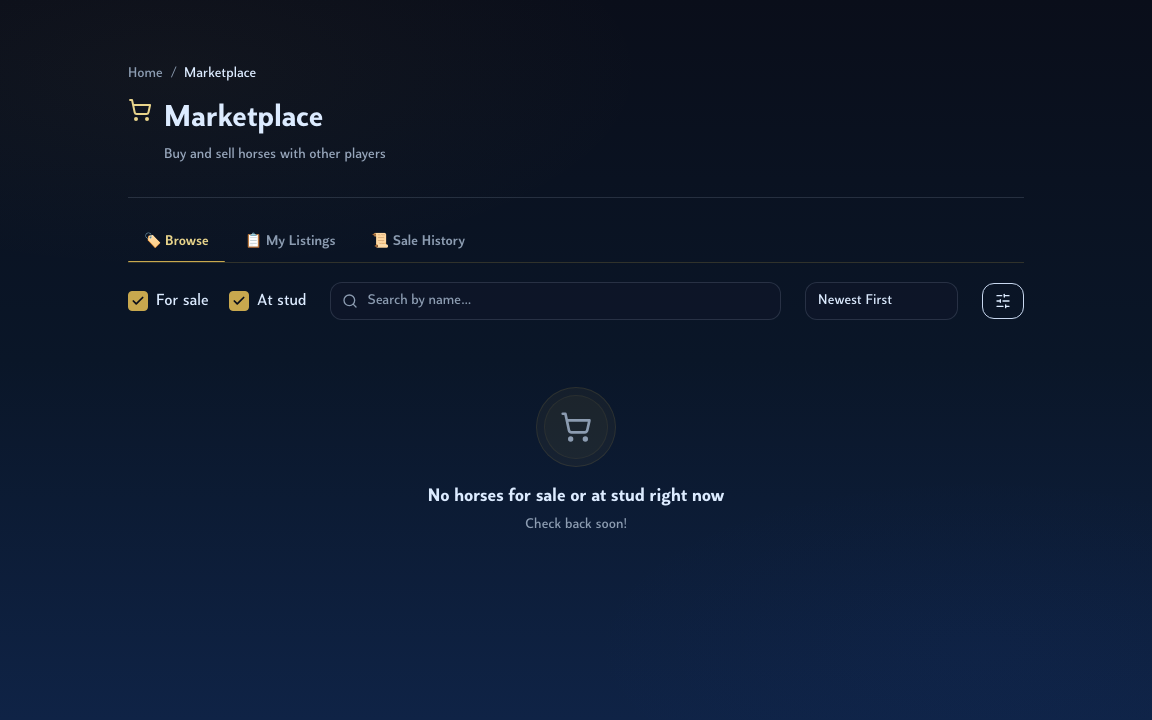
HorseMarketplacePage — sibling Delist buttons (Equoria-ib96u) › locks only the listing being delisted; the other row stays usable
Later steps or results of the test are not shown.
Click the tab with test id "tab-my-listings" at (290, 242), box [229, 222, 352, 262]
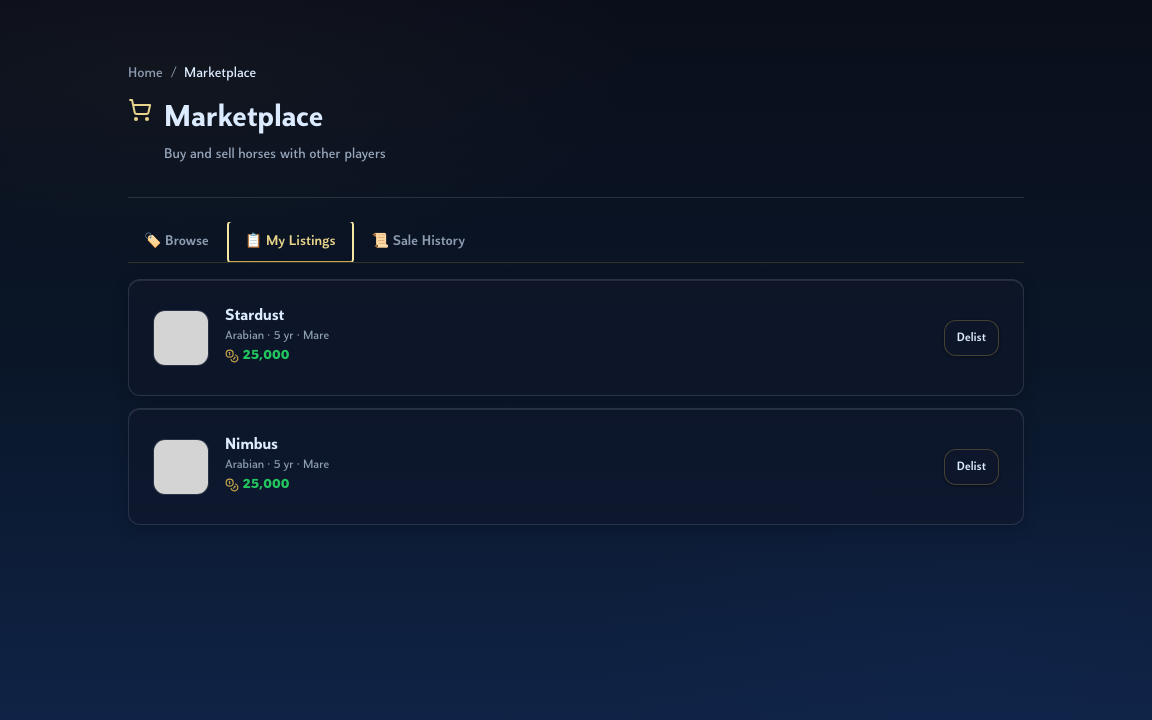
Click the button "Delist" in the row of "Stardust" at (971, 338), box [944, 320, 999, 356]
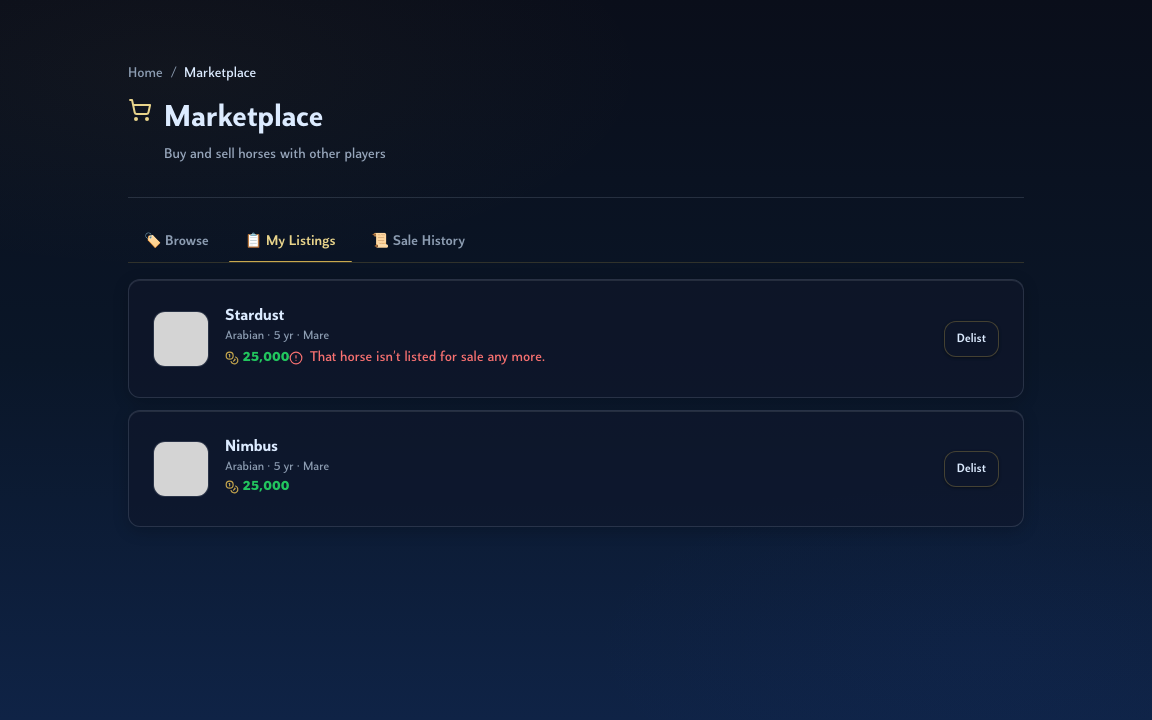
Now the button "Delist" in the row of "Nimbus" is enabled, box [944, 450, 999, 486]
Now the button "Delist" in the row of "Stardust" is enabled, box [944, 320, 999, 356]
